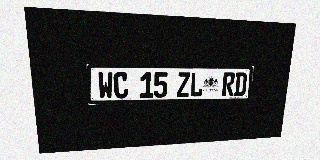1: (140, 72, 154, 98)
5: (154, 72, 168, 98)
C: (113, 72, 128, 99)
D: (234, 72, 247, 96)
L: (190, 72, 203, 97)
R: (222, 72, 235, 96)
W: (97, 72, 113, 99)
Z: (177, 72, 190, 97)
